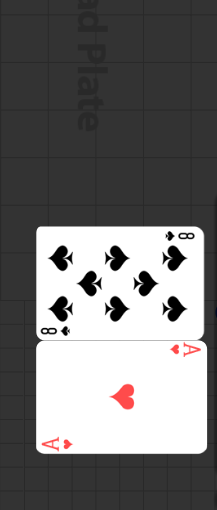8S: (162, 230, 196, 243)
AH: (41, 435, 76, 452)
